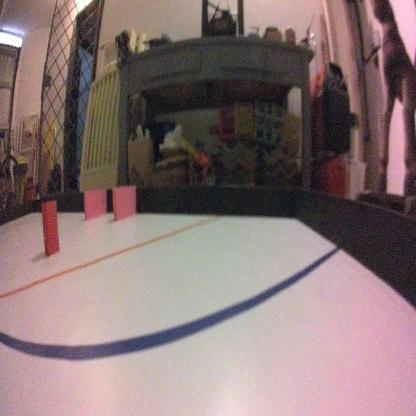magenta: (110, 183, 135, 227), (82, 185, 108, 226)
red: (40, 196, 61, 264)
